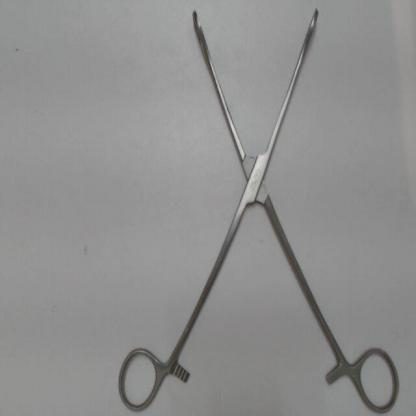Sponge Forceps: (113, 3, 405, 411)
